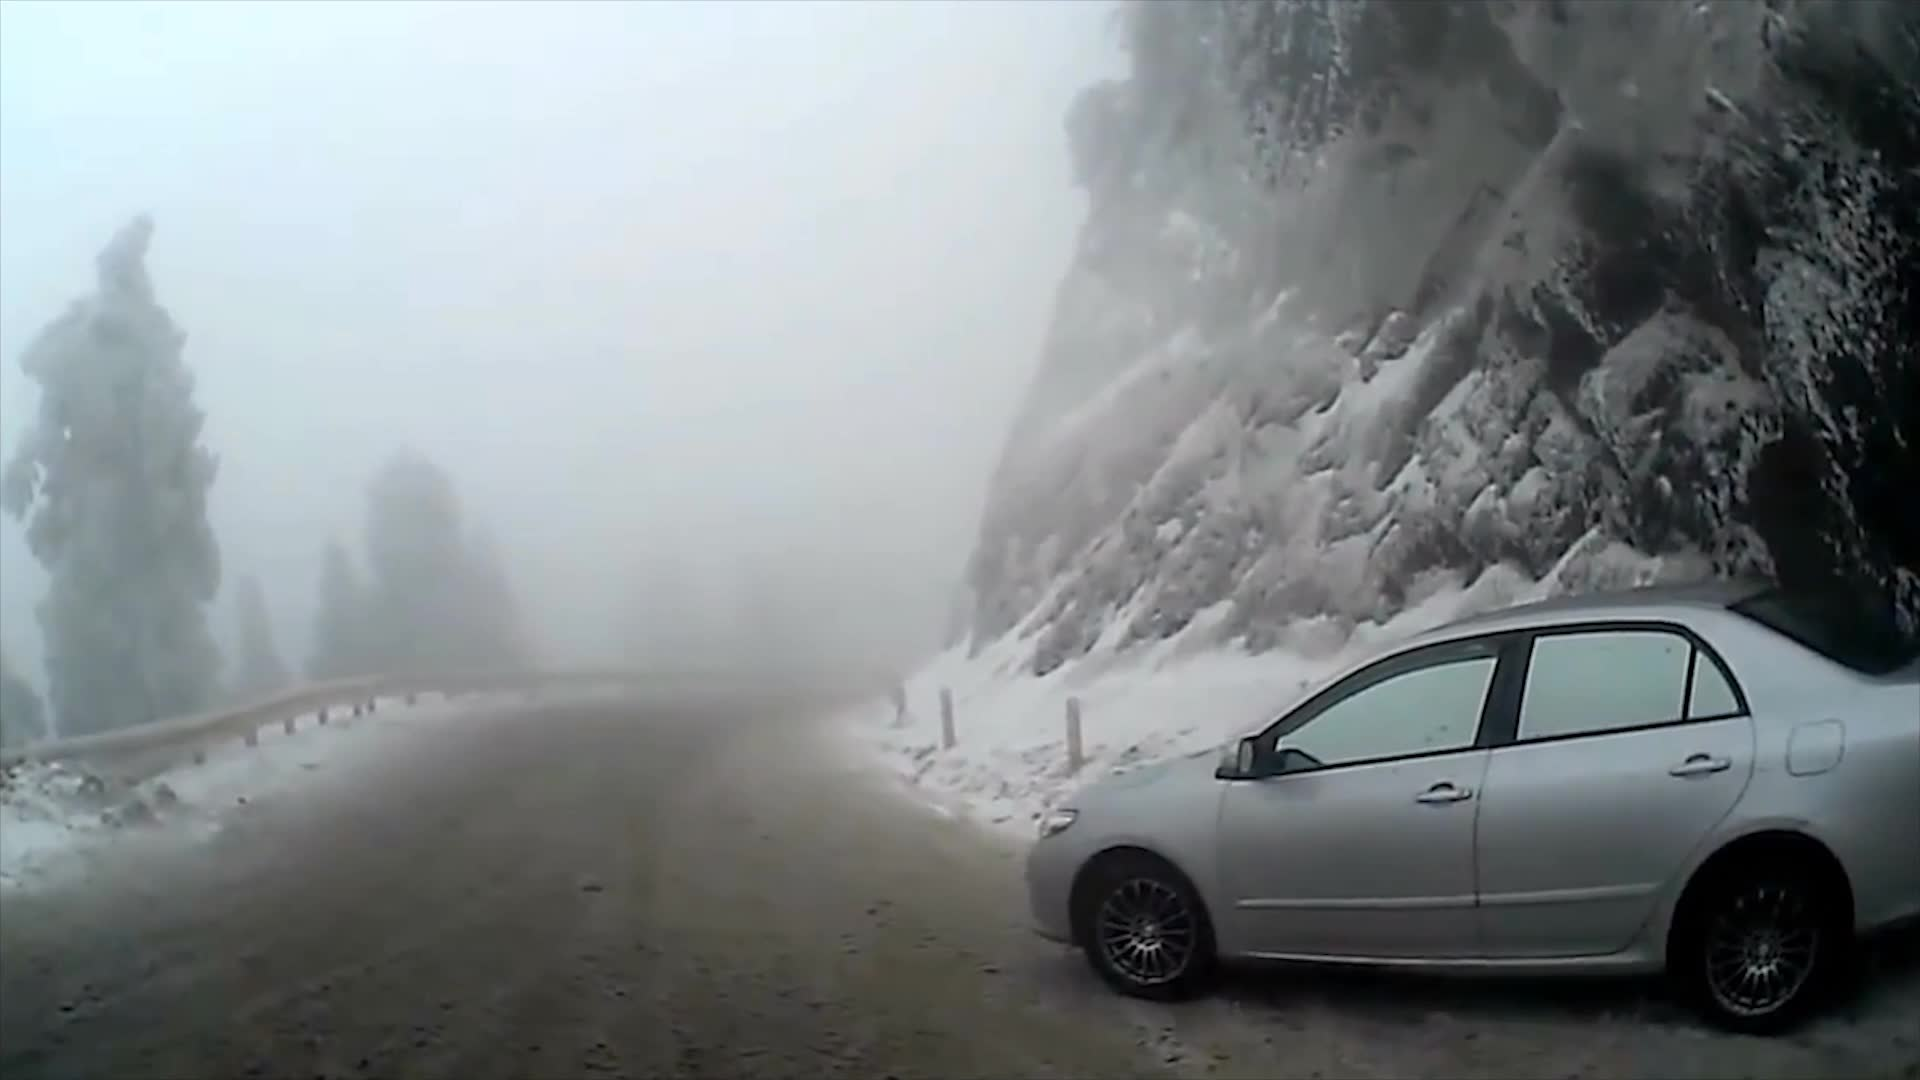vehicle: (1026, 583, 1920, 1044)
